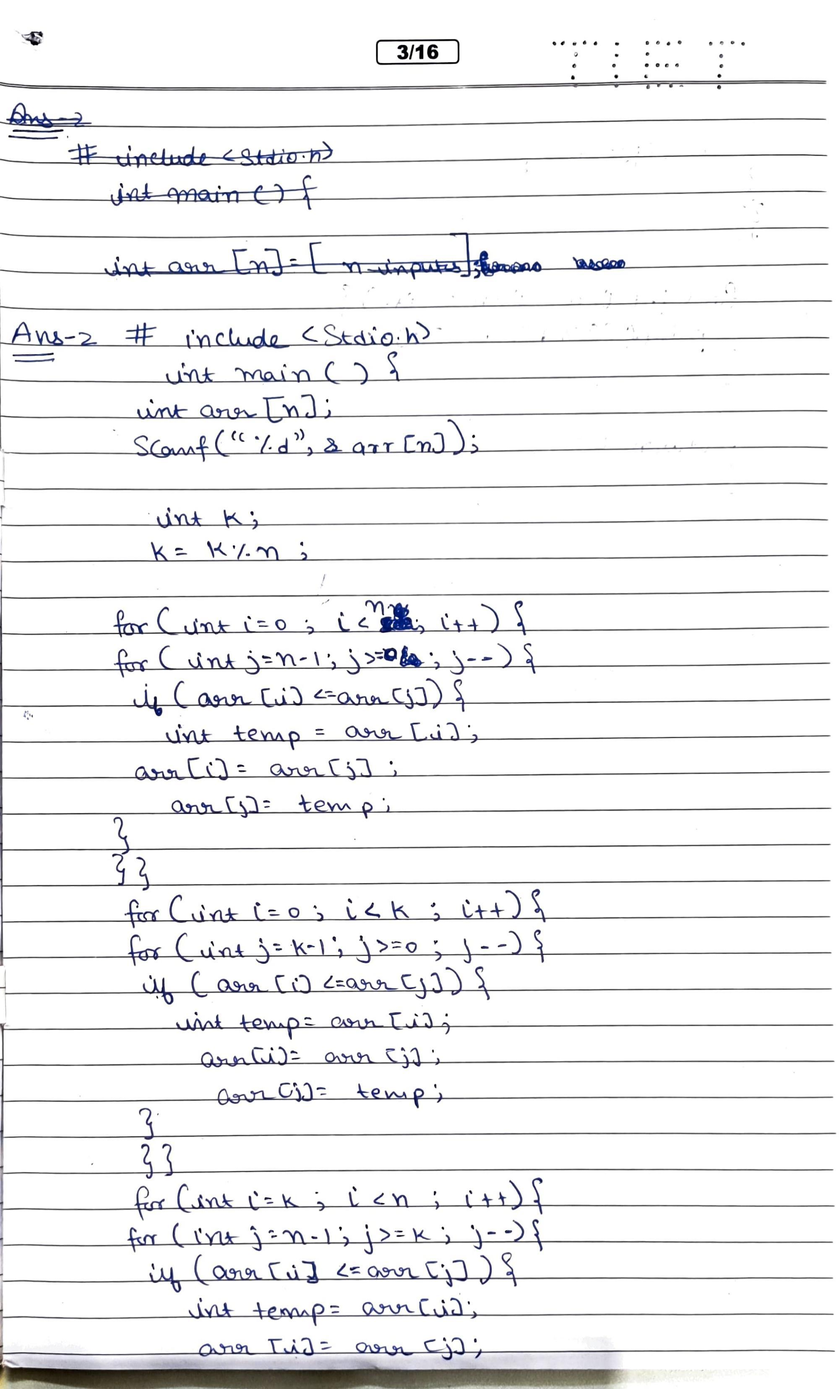cuttings: (4, 97, 636, 282), (378, 601, 429, 635), (382, 644, 424, 671)
